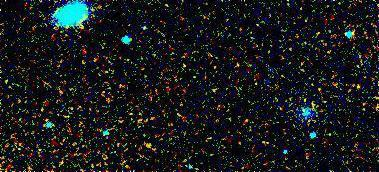star: (134, 130, 164, 160)
